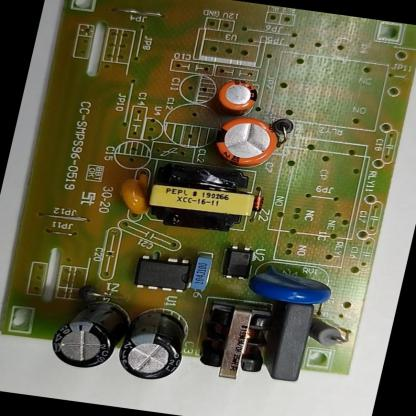Cap1: (204, 108, 286, 176)
Cap2: (209, 72, 266, 122)
Cap3: (107, 296, 201, 388)
Cap4: (40, 287, 144, 377)
MOSFET: (128, 249, 203, 298)
Mov: (238, 257, 343, 312)
Resistor: (298, 311, 360, 352)
Transformer: (129, 154, 264, 240), (192, 295, 284, 386)
